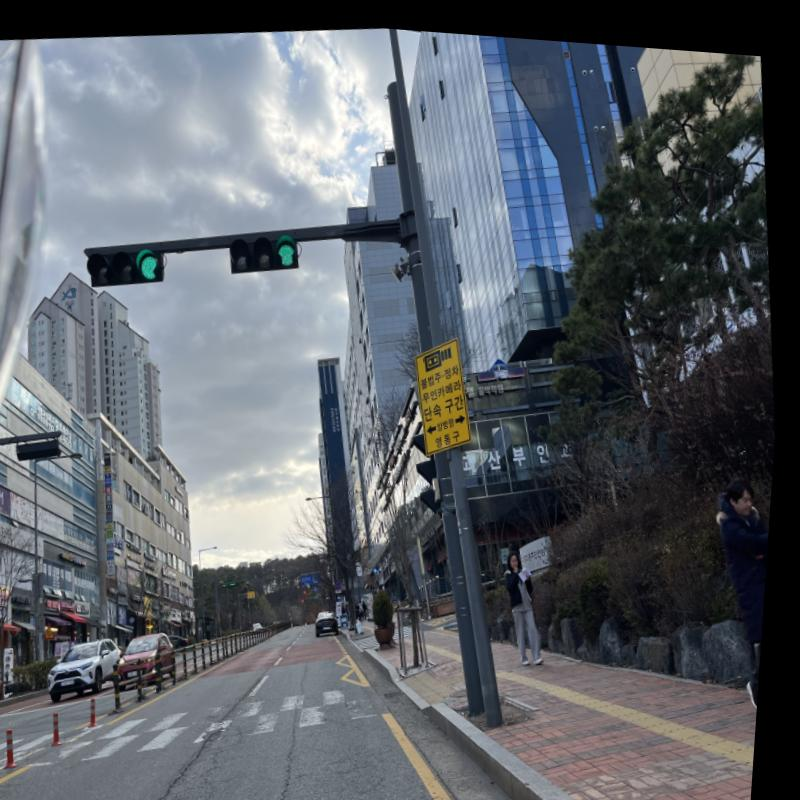green: (139, 249, 167, 278), (278, 235, 302, 262)
